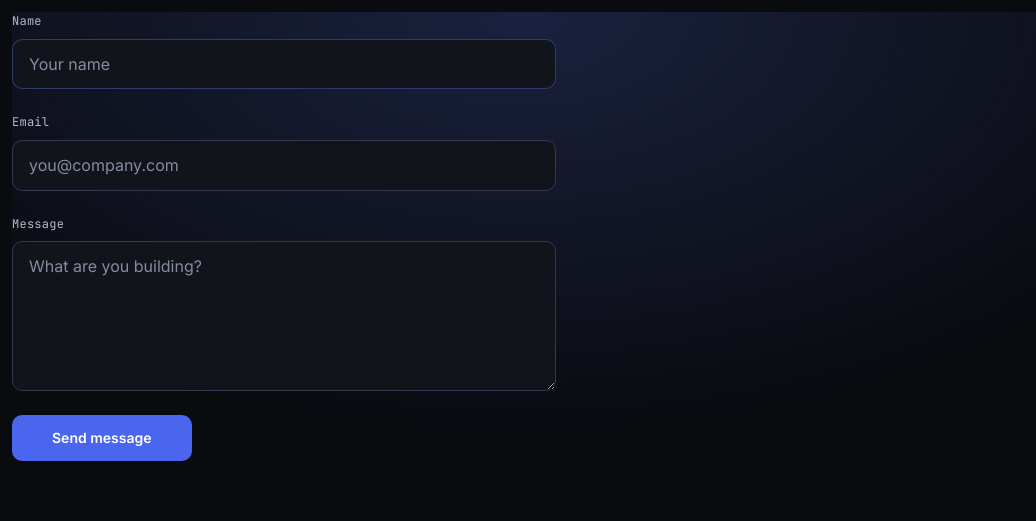
ContactForm › surfaces a fallback address when the request fails
The width and height of the screenshot is (1036, 521).
Type "Anna Grigoryan" into the field labelled "Name" at (284, 64), box [12,39,556,89]
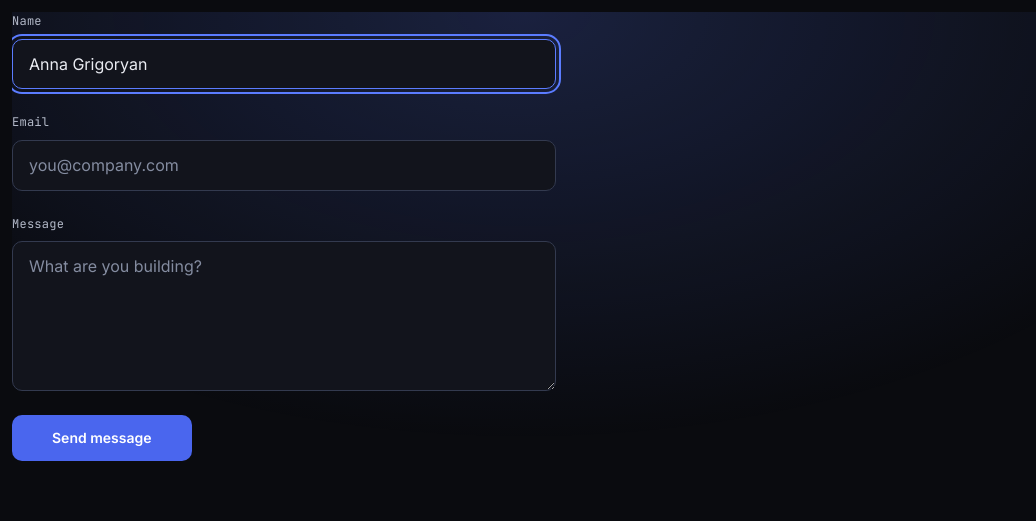
Type "anna@example.com" into the field labelled "Email" at (284, 165), box [12,140,556,191]
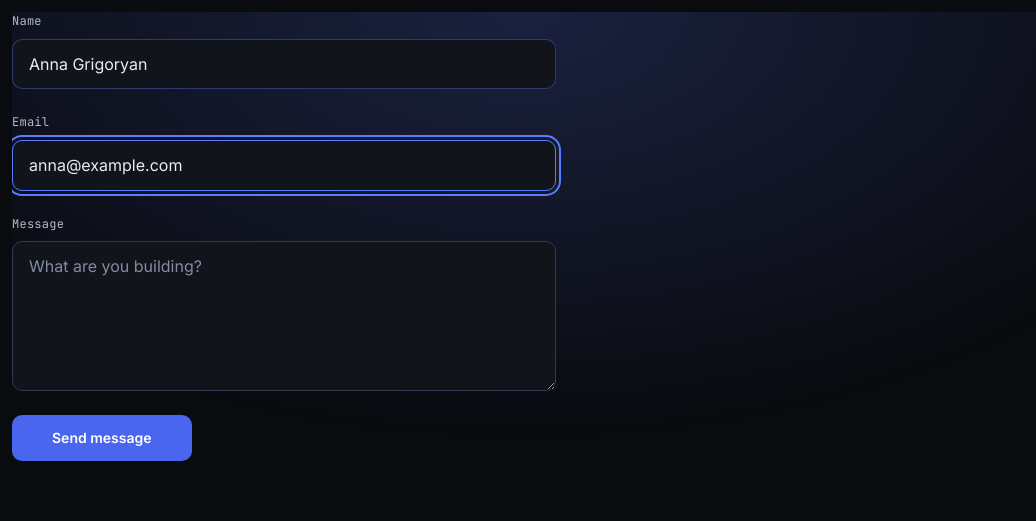
Type "We are hiring a frontend engineer and your architecture work looks relevant." into the text box labelled "Message" at (284, 316), box [12,241,556,391]
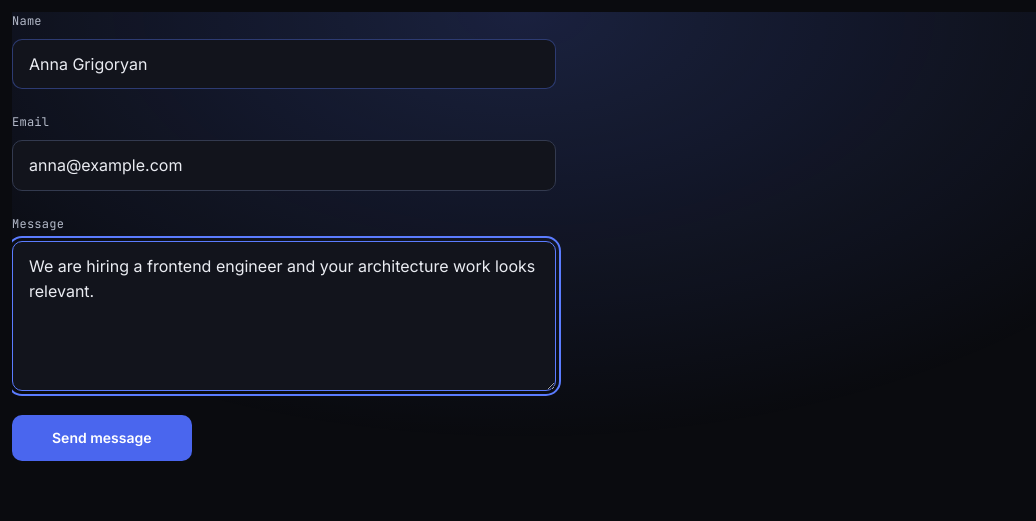
Click the button "Send message" at (102, 438), box [12,415,192,461]
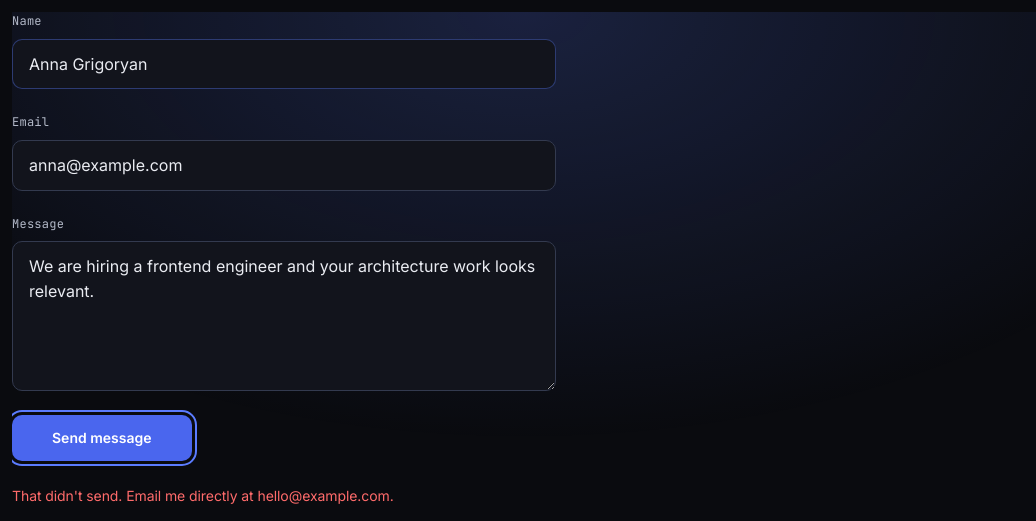
Check: the text "That didn't send. Email me directly at hello@example.com." is shown, box [12,487,394,504]
